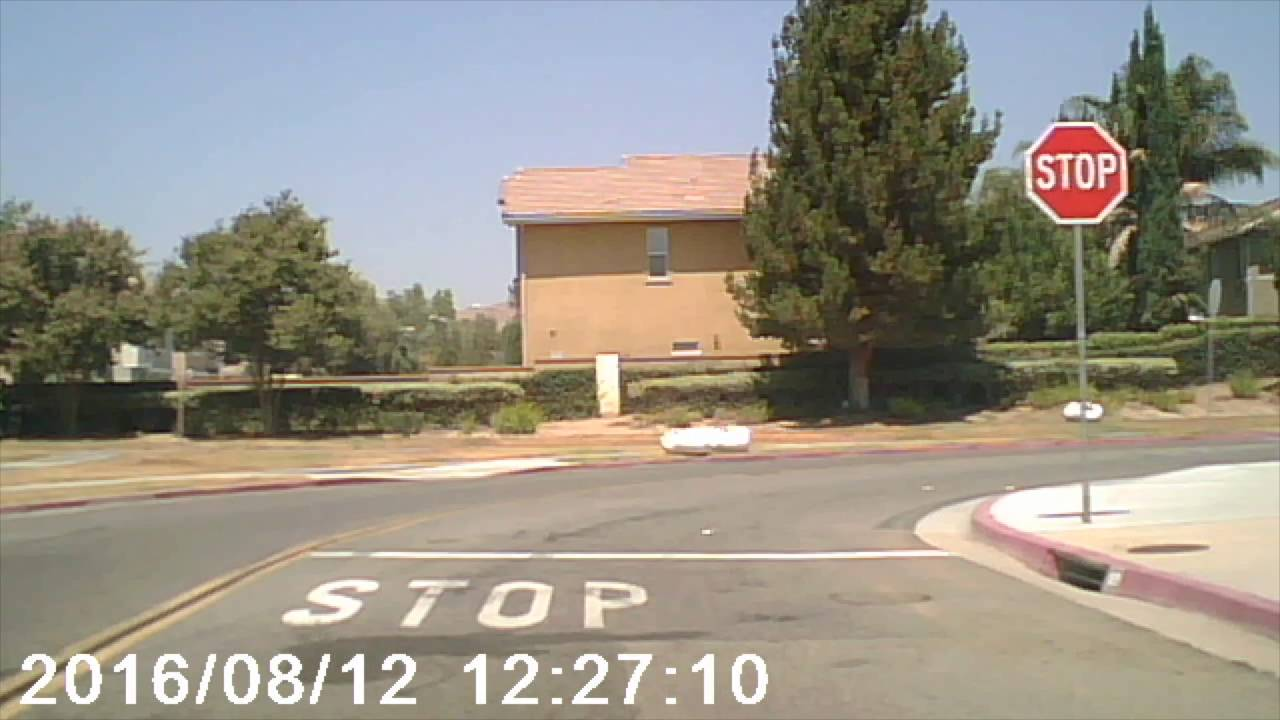StopSign: (1025, 121, 1128, 224)
